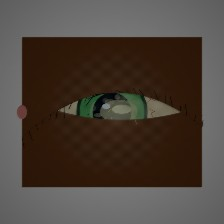corneal_ulcer: (88, 87, 150, 136)
